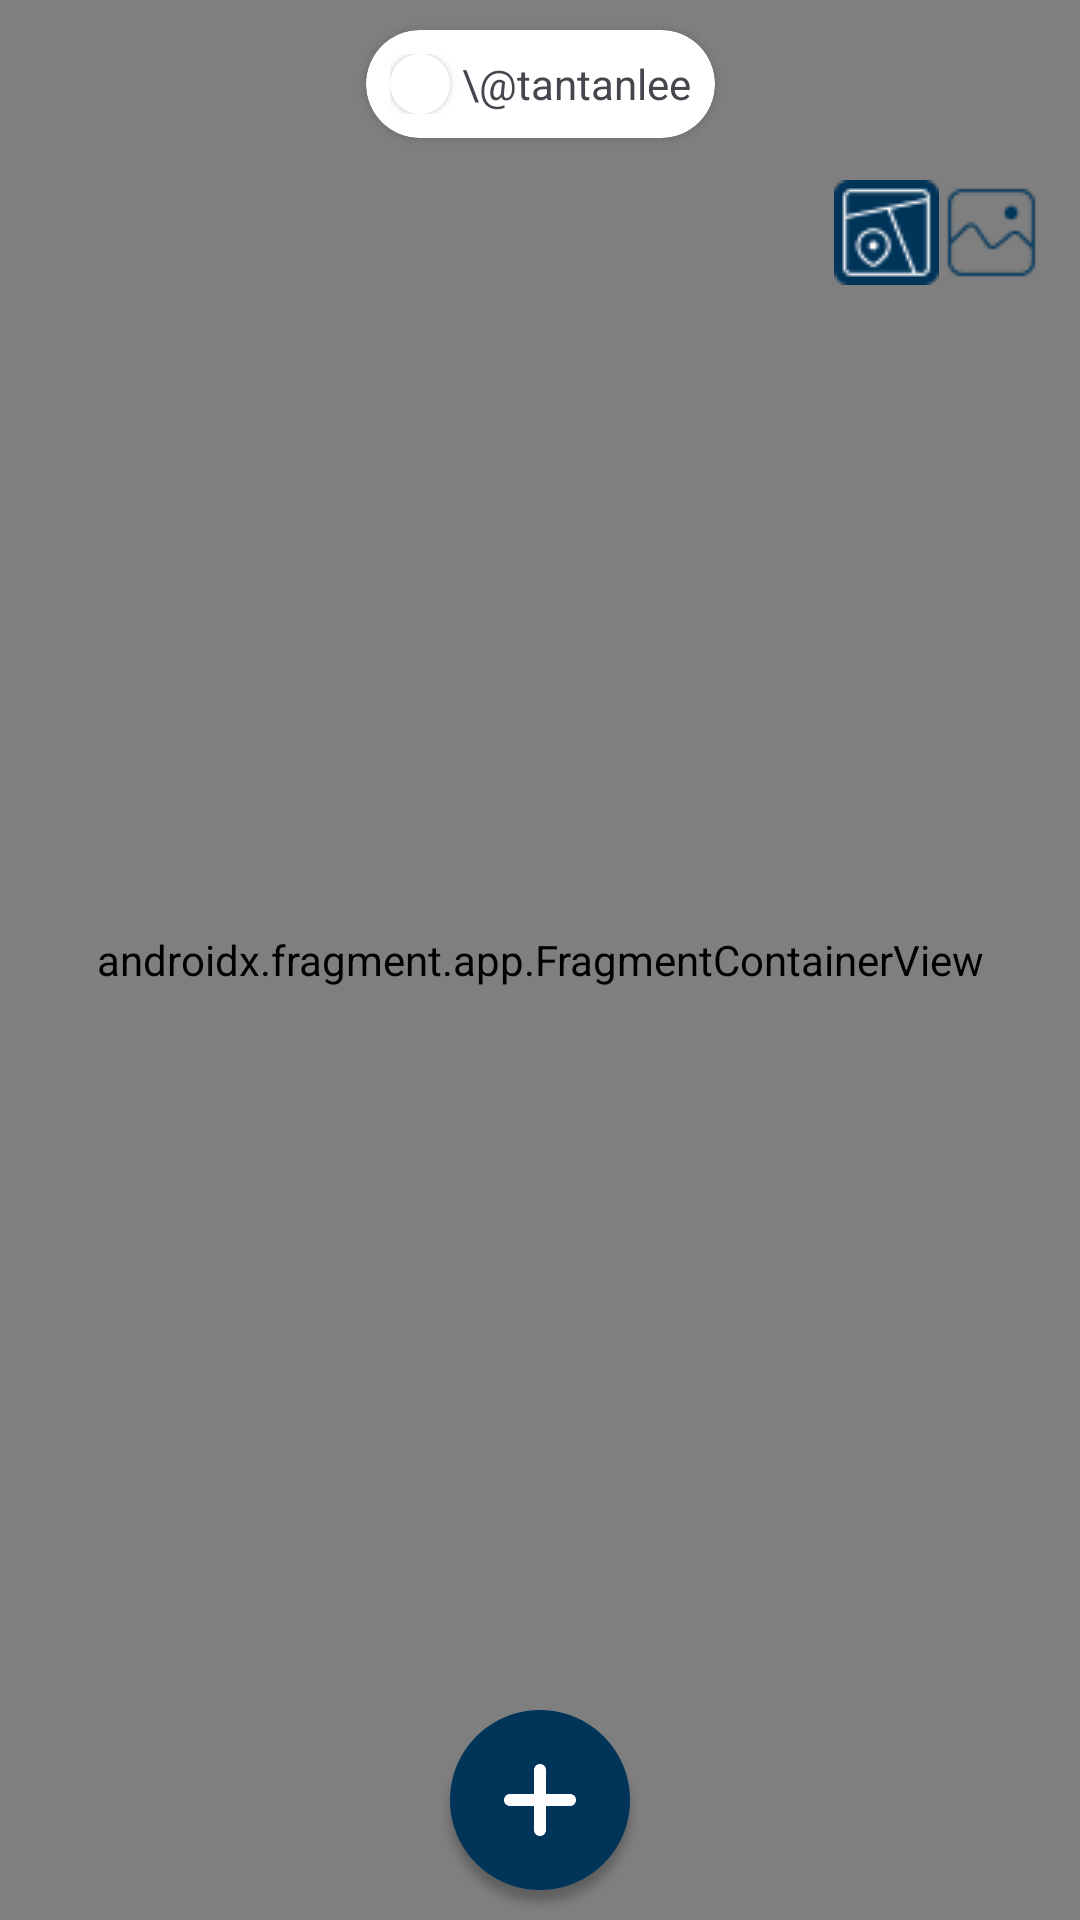

Locate icon controls on the screen. Image size 1080×1920, boxes as (x1, y1, x2, y2).
floating: (450, 1710, 630, 1898)
map: (834, 180, 939, 285)
satellite map: (947, 188, 1036, 277)
